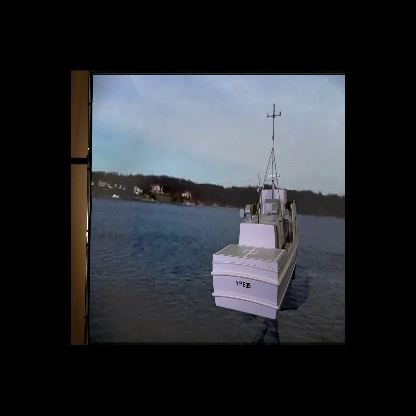YP689: (210, 103, 300, 319)
